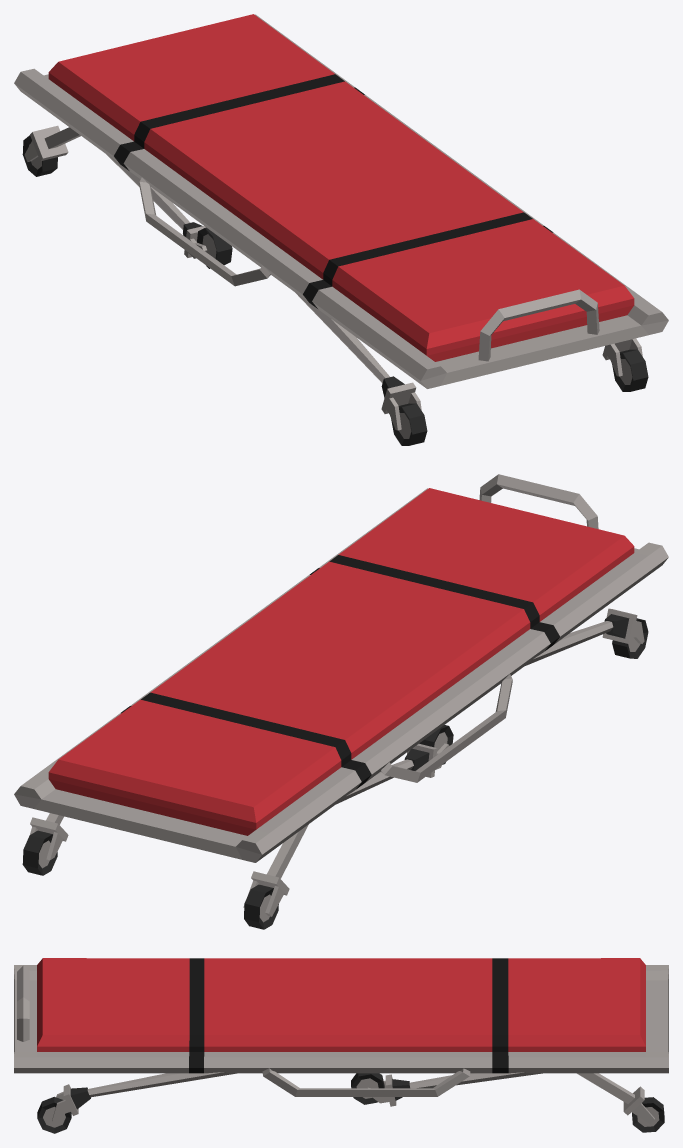
Rendered from apocalypse_stretcher-loading-lowered.fbx.
3 views of the same model, one above another, from view 1: azimuth 30°, elevation 25°; view 2: azimuth 150°, elevation 25°; view 3: azimuth 270°, elevation 25° (orthographic). The views are drawn at different scales.
Parts seen in each view (by area): view 1: apocalypse_stretcher_loading_lowered; view 2: apocalypse_stretcher_loading_lowered; view 3: apocalypse_stretcher_loading_lowered.
Part boxes in pixels (x1,y1,x2,y2): apocalypse_stretcher_loading_lowered: (14, 14, 668, 445); apocalypse_stretcher_loading_lowered: (14, 474, 668, 929); apocalypse_stretcher_loading_lowered: (14, 958, 668, 1133).
Size of the model in its own units: 78 by 35.79 by 200.
